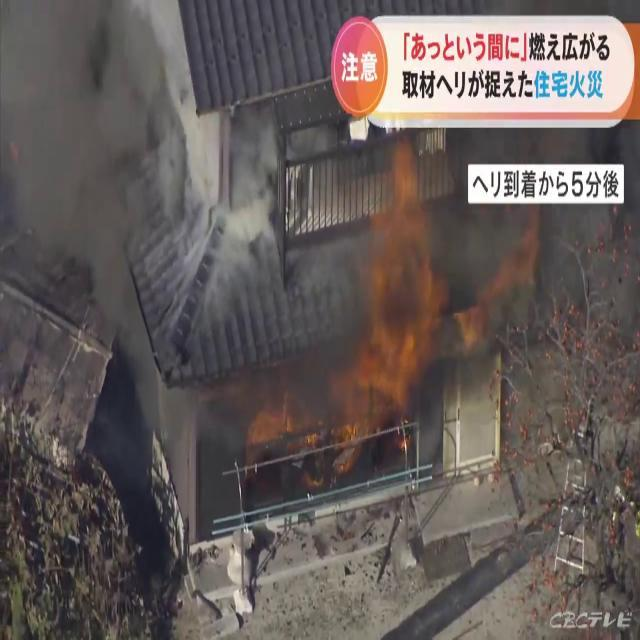Fire: (333, 147, 452, 450)
Smoke: (0, 0, 191, 395), (176, 102, 346, 440)
